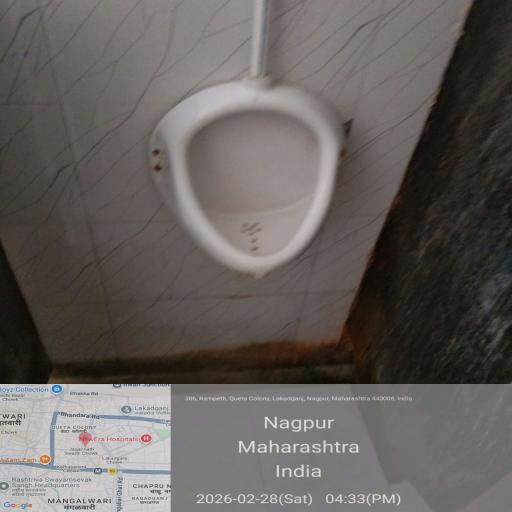clean_indian: (38, 251, 512, 496)
clean_urinal: (119, 80, 428, 282)
